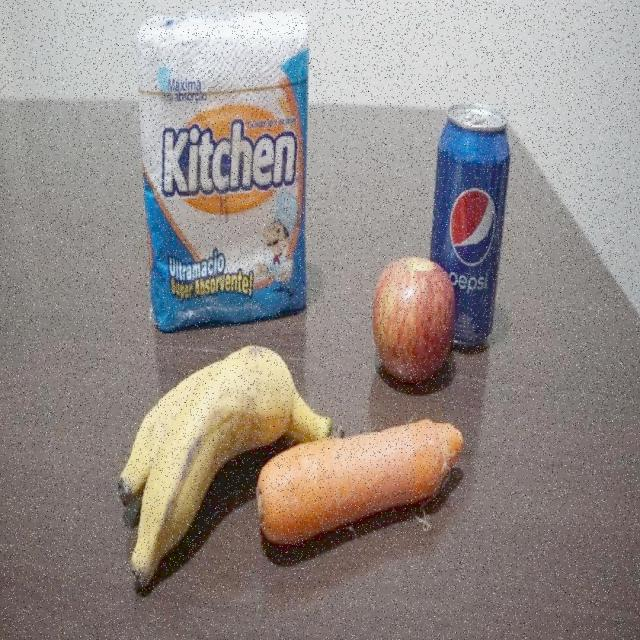Apple: (370, 254, 459, 385)
Banana: (119, 345, 344, 591)
Carrot: (254, 416, 468, 556)
Napkin: (134, 11, 316, 330)
SodaCan: (426, 100, 514, 357)
